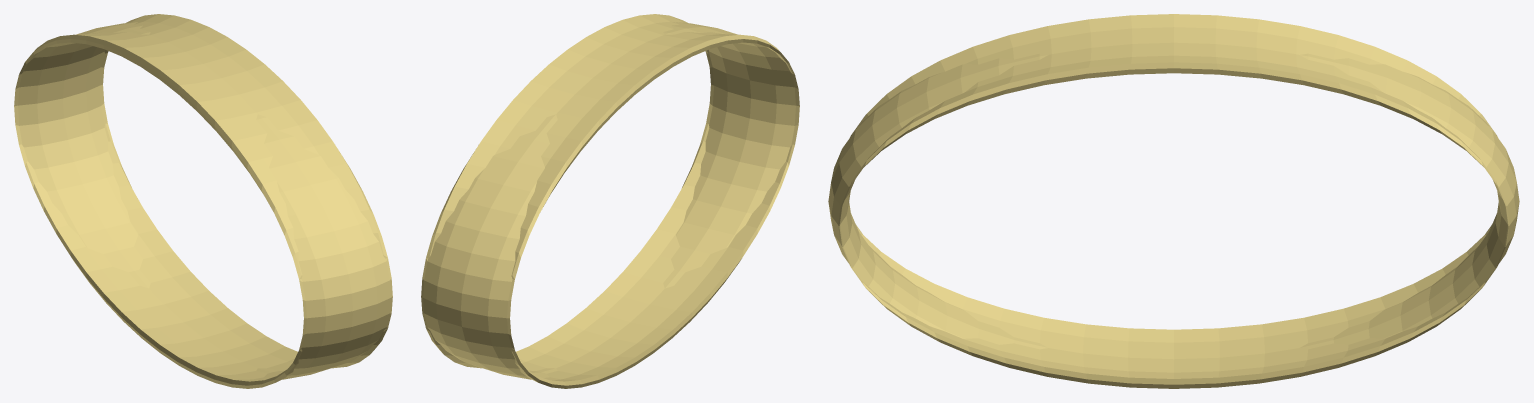
The model's file is Scotch_tape_outside.fbx.
3 views of the same model, side by side, from view 1: azimuth 30°, elevation 25°; view 2: azimuth 150°, elevation 25°; view 3: azimuth 270°, elevation 25° (orthographic). The views are drawn at different scales.
Parts seen in each view (by area): view 1: OutSide; view 2: OutSide; view 3: OutSide.
Part boxes in pixels (x1,y1,x2,y2): OutSide: (14,14,392,388); OutSide: (421,14,799,388); OutSide: (828,14,1519,388).
Bounding box in the file's own units: 112 × 339 × 650.
